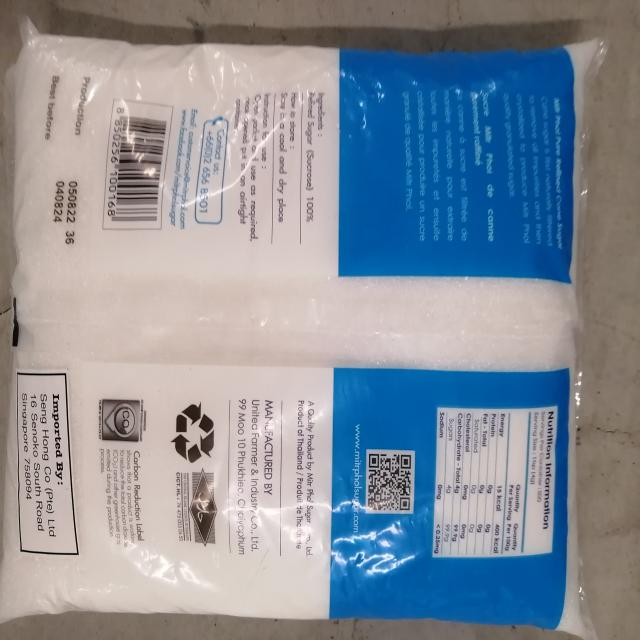object_name: (16, 44, 581, 628)
